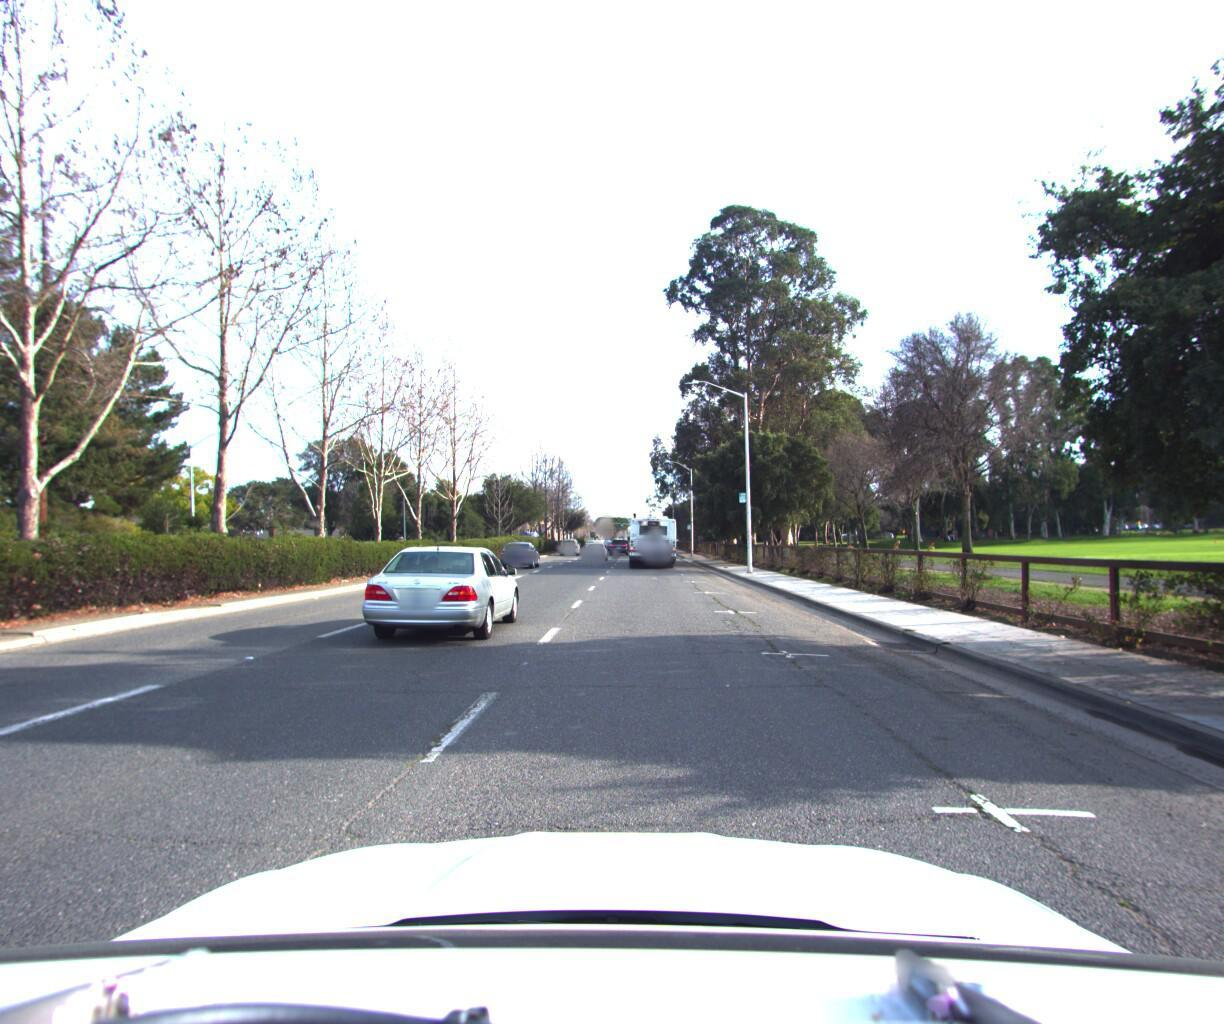bus: (627, 506, 682, 567)
car: (355, 538, 523, 648), (498, 535, 541, 566), (582, 533, 609, 553), (561, 533, 582, 551), (610, 532, 630, 549)
